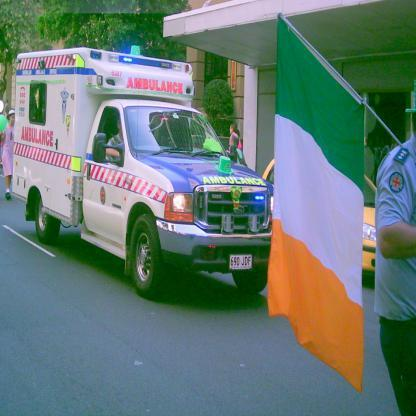ambulance_on: (10, 43, 271, 299)
